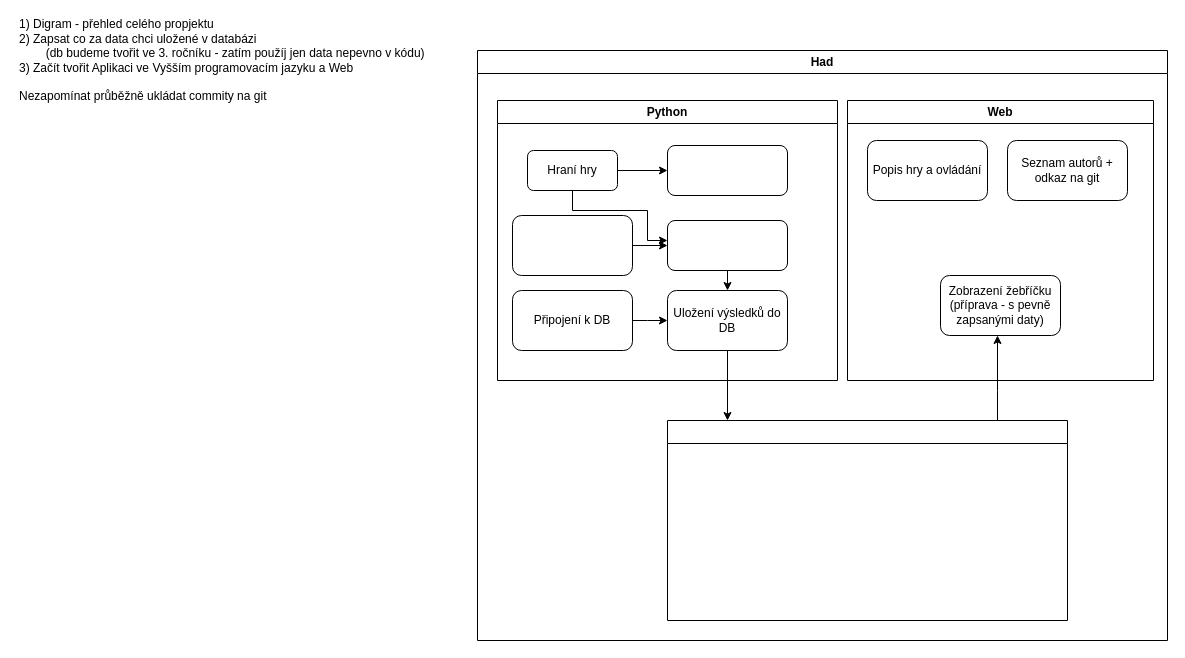
The diagram is 1185 pixels wide and 658 high, and some of its shapes have lost their labels. The centre of each missing label's shape, as x and y in pixels:
Databáze: [867,520]
Hraní hry bez účtu: [727,170]
Hraní hry pod účtem: [727,245]
Přihlášení k účtu: [572,245]
